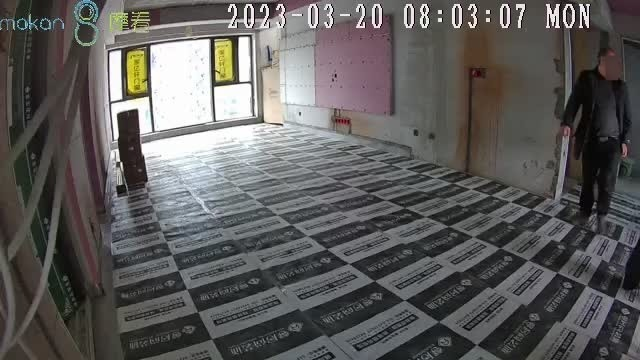people: (562, 49, 633, 230)
window: (106, 35, 263, 141)
